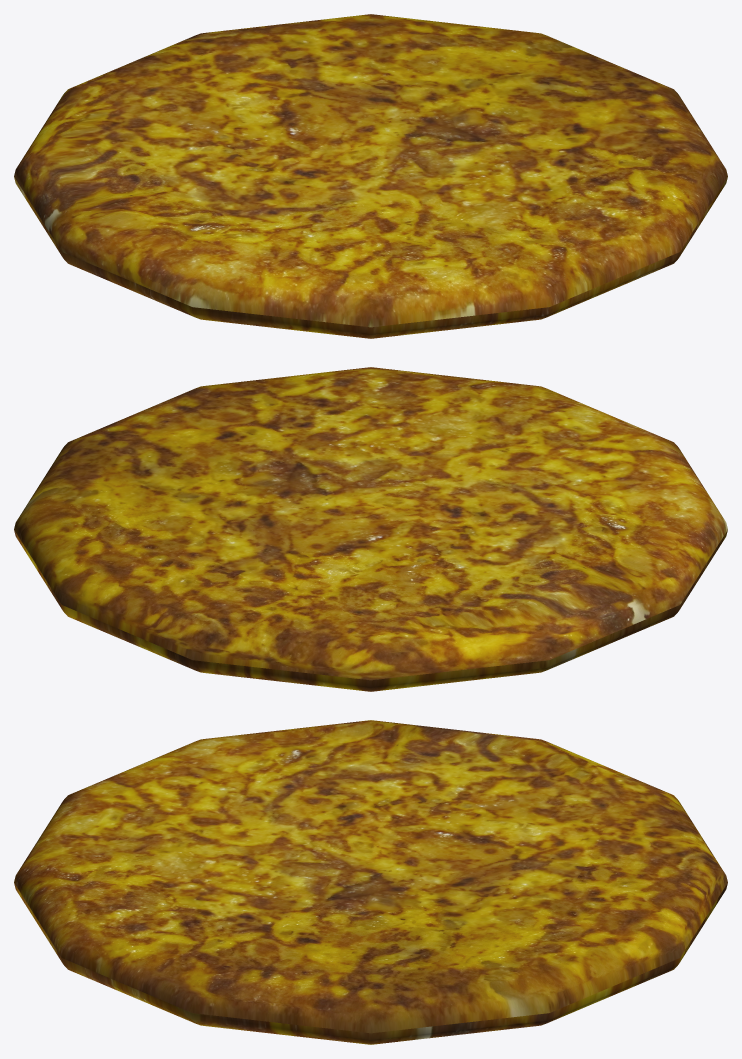
File: tortillafbx.FBX
The picture shows the model from 3 angles, top to bottom: view 1: azimuth 30°, elevation 25°; view 2: azimuth 150°, elevation 25°; view 3: azimuth 270°, elevation 25°; orthographic projection.
Visible parts, largest first — view 1: Line01; view 2: Line01; view 3: Line01.
Boxes of the visible parts, <box> form: Line01: <box>14,14,727,338</box>; Line01: <box>14,367,727,691</box>; Line01: <box>14,720,727,1044</box>.
Size of the model in its own units: 370 by 370 by 32.34.
1 material, 1 textured.
